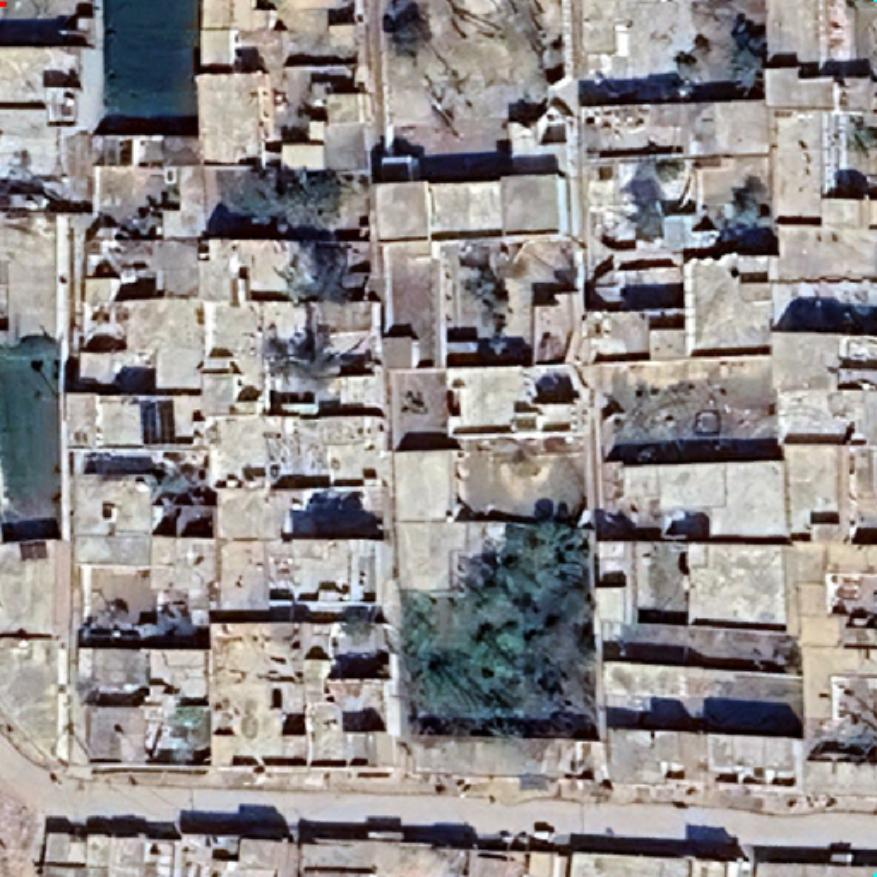Solarpanel: (136, 396, 180, 449)
